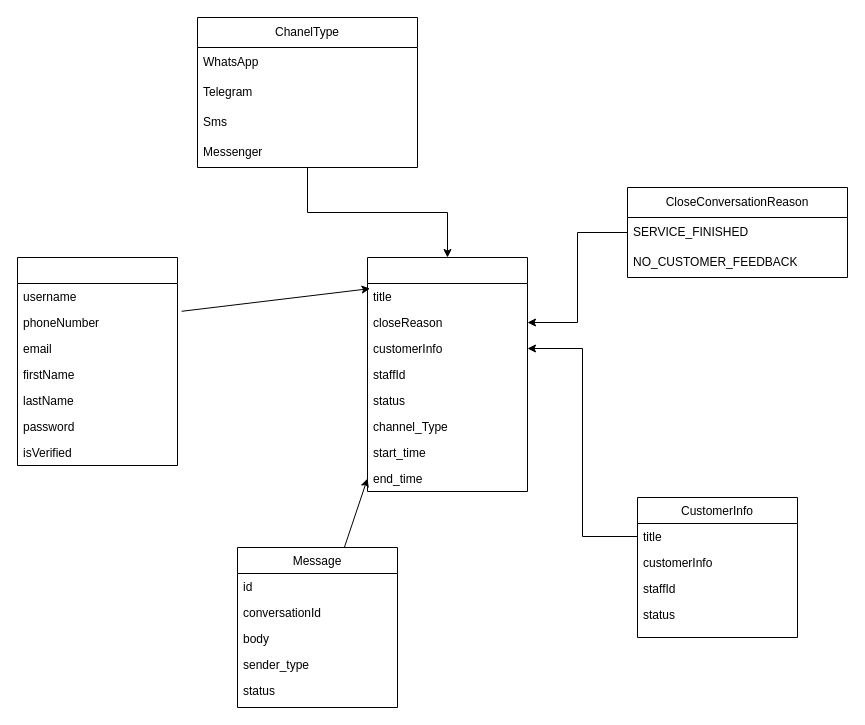
Image size: 865x725. Some labels were removed from this diagram. The shapes that lost their labels are listed below. From the top down, each one's box as (x1, y1, x2, y2) in pixels, then its label:
(16, 256, 178, 466): Staff
(366, 256, 528, 492): Conversation
